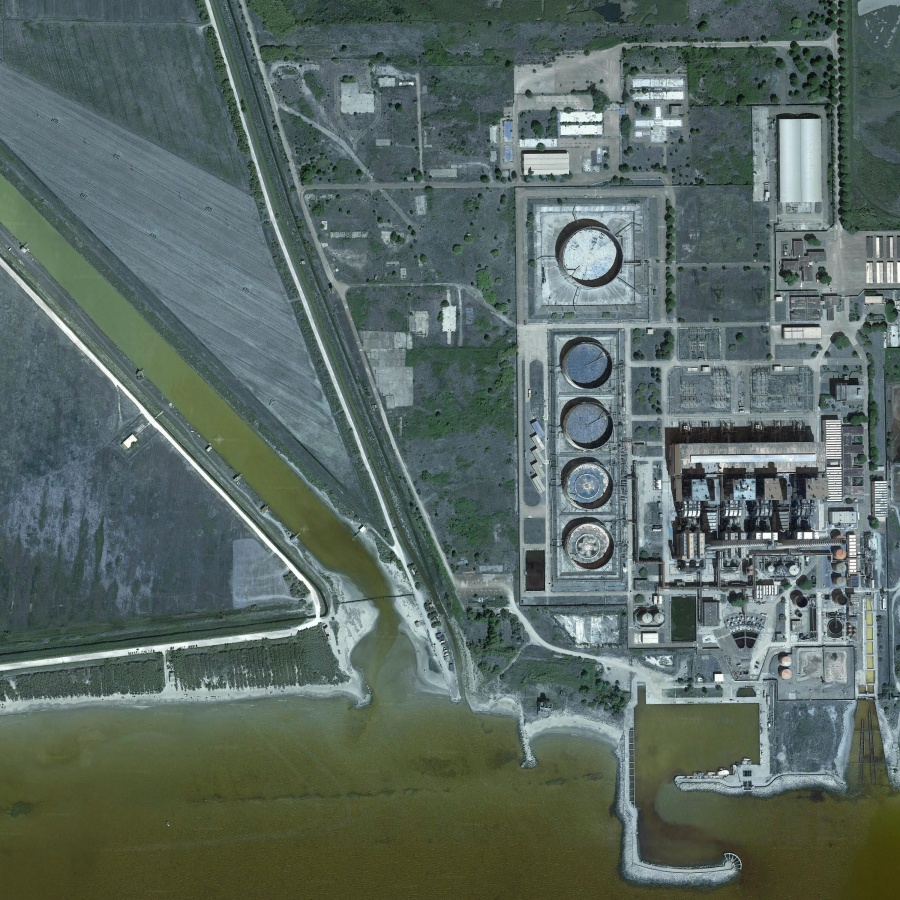PowerPlant: (512, 188, 662, 603)
